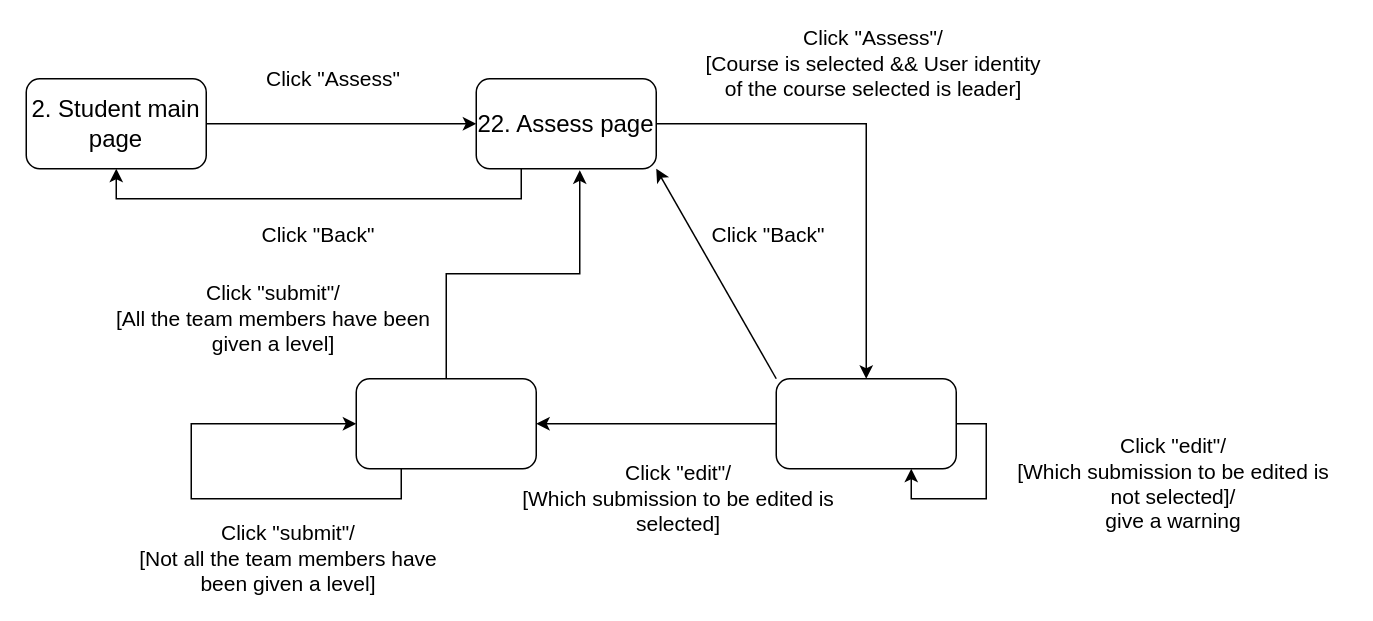
The diagram is 1373 pixels wide and 621 high, and some of its shapes have lost their labels. Here are the shapes that lost their labels. From the top down, the centre of each, then its label:
point 445,423: 24. Assess modal
point 865,423: 23. Leader assess page
